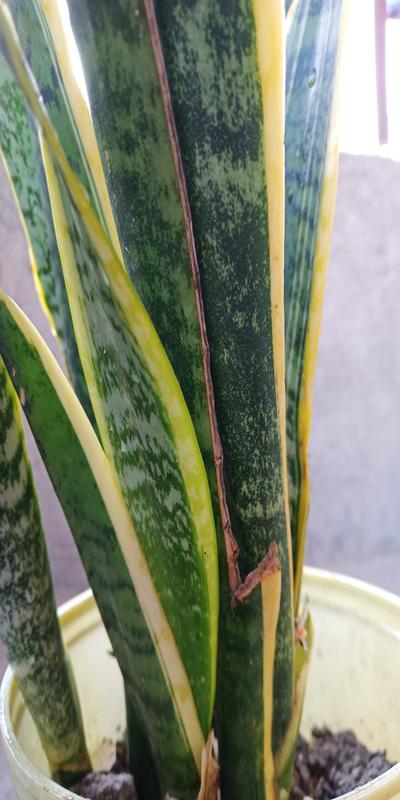Snake plant: (22, 19, 358, 744)
